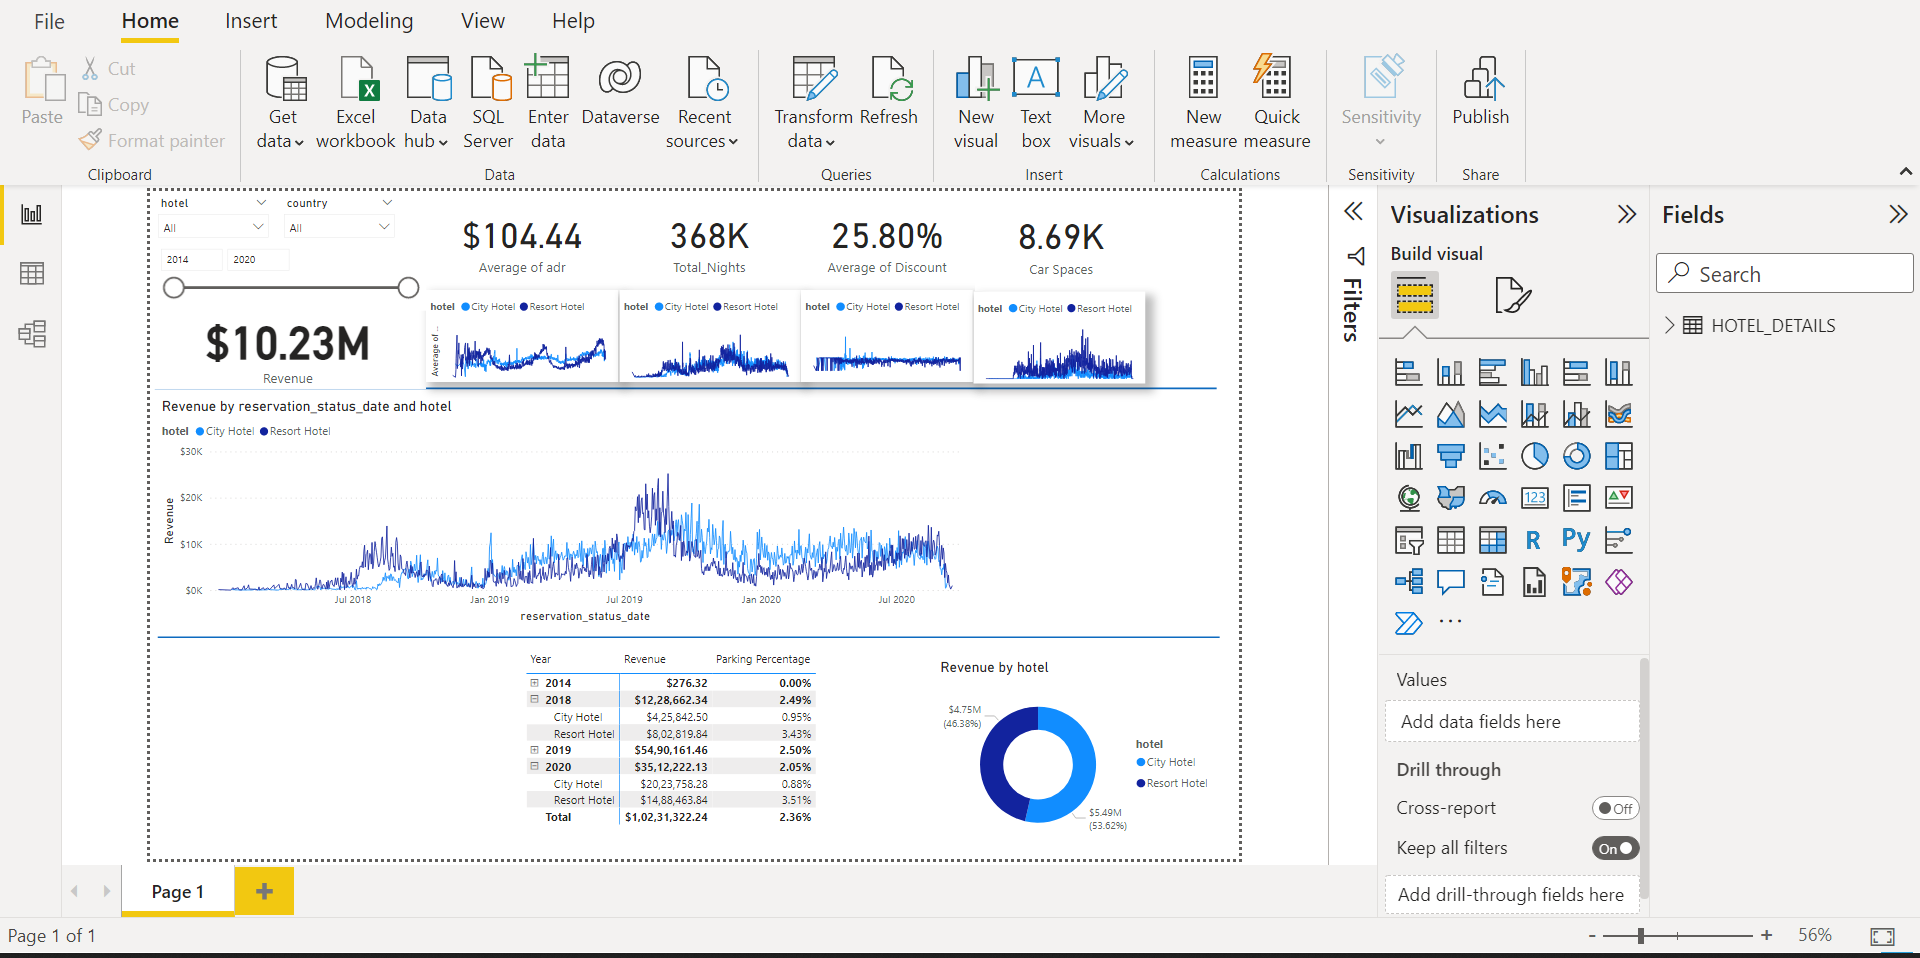

Layout of this report page (visuals, bound fields, positions):
{"tool":"powerbi","page":{"name":"Page 1","canvas":[1301,798],"ordinal":0},"visuals":[{"type":"shape","box":[4.9,213.6,1270.1,45.3],"z":0},{"type":"shape","box":[9.7,508,1270.1,51.8],"z":1000},{"type":"card","fields":{"Values":["Sum(HOTEL_DETAILS.Revenue)"]},"box":[0,132.7,330,104],"z":2000},{"type":"card","fields":{"Values":["Avg(HOTEL_DETAILS.adr)"]},"box":[330.1,0,229.8,118.1],"z":3000},{"type":"card","fields":{"Values":["HOTEL_DETAILS.Total_Nights"]},"box":[559.8,0,218.4,118.1],"z":4000},{"type":"card","fields":{"Values":["Avg(HOTEL_DETAILS.Discount)"]},"box":[778.2,0,205.5,118.1],"z":5000},{"type":"lineChart","fields":{"Y":["Sum(HOTEL_DETAILS.Revenue)"],"Category":["HOTEL_DETAILS.reservation_status_date"],"Series":["HOTEL_DETAILS.hotel"]},"box":[9.7,247.6,977.3,273.4],"z":6000},{"type":"slicer","fields":{"Values":["HOTEL_DETAILS.country"]},"box":[150.5,0,152.1,69.6],"z":7000},{"type":"slicer","fields":{"Values":["HOTEL_DETAILS.hotel"]},"box":[0,0,152.1,69.6],"z":8000},{"type":"lineChart","fields":{"Category":["HOTEL_DETAILS.reservation_status_date"],"Y":["Avg(HOTEL_DETAILS.adr)"],"Series":["HOTEL_DETAILS.hotel"]},"box":[330.1,118.1,229.8,110],"z":9000},{"type":"lineChart","fields":{"Category":["HOTEL_DETAILS.reservation_status_date"],"Y":["HOTEL_DETAILS.Total_Nights"],"Series":["HOTEL_DETAILS.hotel"]},"box":[561.4,118.1,216.8,110],"z":10000},{"type":"lineChart","fields":{"Y":["Avg(HOTEL_DETAILS.Discount)"],"Category":["HOTEL_DETAILS.reservation_status_date"],"Series":["HOTEL_DETAILS.hotel"]},"box":[778.2,118.1,205.5,110],"z":11000},{"type":"card","fields":{"Values":["Sum(HOTEL_DETAILS.required_car_parking_spaces)"]},"box":[987,1.6,205.5,118.1],"z":12000},{"type":"lineChart","fields":{"Category":["HOTEL_DETAILS.reservation_status_date"],"Series":["HOTEL_DETAILS.hotel"],"Y":["Sum(HOTEL_DETAILS.Car Spaces)"]},"box":[983.7,119.7,205.5,110],"z":13000},{"type":"donutChart","fields":{"Category":["HOTEL_DETAILS.hotel"],"Y":["Sum(HOTEL_DETAILS.Revenue)"]},"box":[939.7,559.5,338.9,233.1],"z":14000},{"type":"pivotTable","fields":{"Rows":["HOTEL_DETAILS.reservation_status_date.Variation.Date Hierarchy.Year","HOTEL_DETAILS.hotel"],"Values":["Sum(HOTEL_DETAILS.Revenue)","HOTEL_DETAILS.Parking Percentage"]},"box":[444.7,543.4,389.1,249.3],"z":15000},{"type":"slicer","fields":{"Values":["HOTEL_DETAILS.reservation_status_date.Variation.Date Hierarchy.Year"]},"box":[0,59.2,330,84.3],"z":16000}]}

Visuals, with their boxes on the page's 1301x798 design canvas (x1, y1, x2, y2). These are canvas units, not pixel positions in the 1920x958 screenshot, which may show the page scaled, cropped or inside an application window:
shape: (5,214,1275,259)
shape: (10,508,1280,560)
card - Sum(HOTEL_DETAILS.Revenue): (0,133,330,237)
card - Avg(HOTEL_DETAILS.adr): (330,0,560,118)
card - HOTEL_DETAILS.Total_Nights: (560,0,778,118)
card - Avg(HOTEL_DETAILS.Discount): (778,0,984,118)
lineChart - Sum(HOTEL_DETAILS.Revenue) x HOTEL_DETAILS.reservation_status_date: (10,248,987,521)
slicer - HOTEL_DETAILS.country: (150,0,303,70)
slicer - HOTEL_DETAILS.hotel: (0,0,152,70)
lineChart - HOTEL_DETAILS.reservation_status_date x Avg(HOTEL_DETAILS.adr): (330,118,560,228)
lineChart - HOTEL_DETAILS.reservation_status_date x HOTEL_DETAILS.Total_Nights: (561,118,778,228)
lineChart - Avg(HOTEL_DETAILS.Discount) x HOTEL_DETAILS.reservation_status_date: (778,118,984,228)
card - Sum(HOTEL_DETAILS.required_car_parking_spaces): (987,2,1192,120)
lineChart - HOTEL_DETAILS.reservation_status_date x HOTEL_DETAILS.hotel: (984,120,1189,230)
donutChart - HOTEL_DETAILS.hotel x Sum(HOTEL_DETAILS.Revenue): (940,560,1279,793)
pivotTable - HOTEL_DETAILS.reservation_status_date.Variation.Date Hierarchy.Year x HOTEL_DETAILS.hotel: (445,543,834,793)
slicer - HOTEL_DETAILS.reservation_status_date.Variation.Date Hierarchy.Year: (0,59,330,144)
